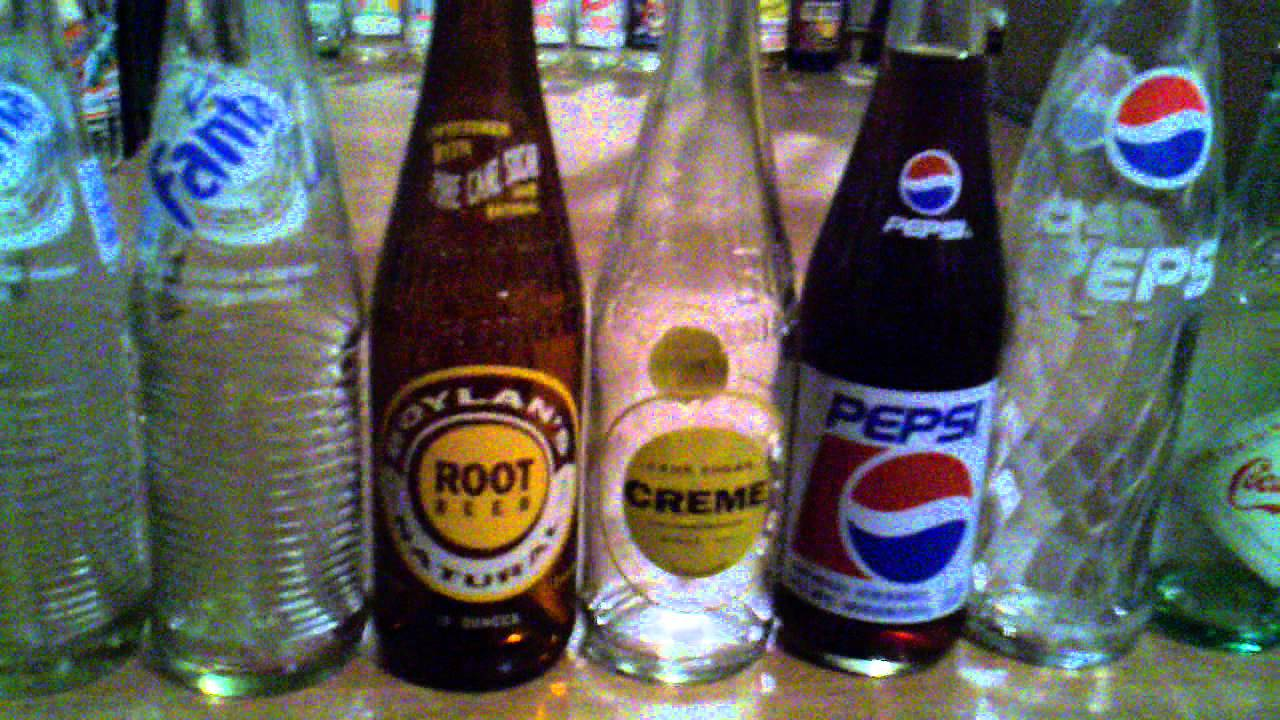Rec_Glass: (1, 1, 1276, 699), (988, 1, 1265, 676), (137, 1, 372, 681), (367, 1, 577, 684), (779, 1, 981, 681), (580, 1, 781, 680), (5, 1, 153, 691)
